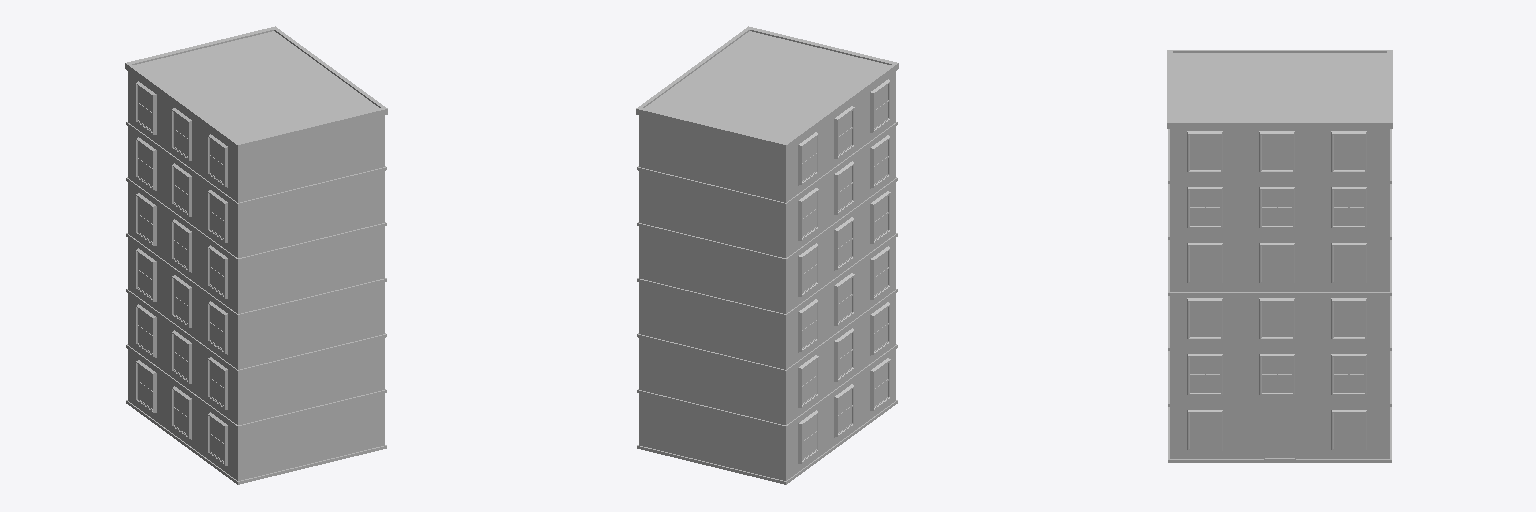
Rendered from Monkeyw.obj.
3 views of the same model, side by side, from view 1: azimuth 30°, elevation 25°; view 2: azimuth 150°, elevation 25°; view 3: azimuth 270°, elevation 25° (orthographic).
Parts seen in each view (by area): view 1: Plane; view 2: Plane; view 3: Plane.
Boxes of the visible parts, box(x1,y1,x2,y2) form: Plane: box(125, 26, 387, 484); Plane: box(636, 26, 898, 484); Plane: box(1167, 50, 1392, 462).
Bounding box in the file's own units: 31.27 × 66.02 × 39.59.